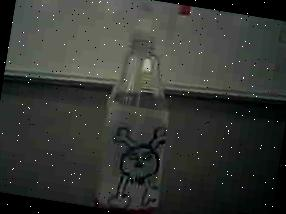hazard: (77, 0, 200, 214)
